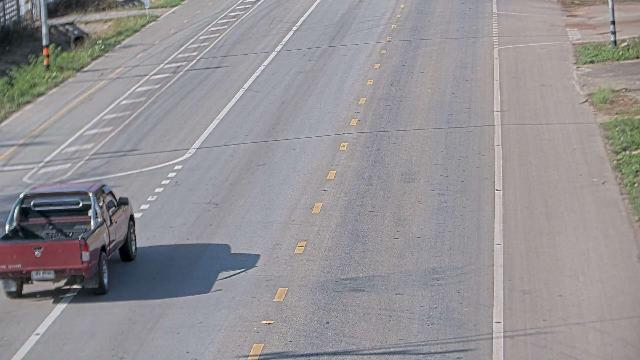pickup-truck: (0, 181, 137, 297)
